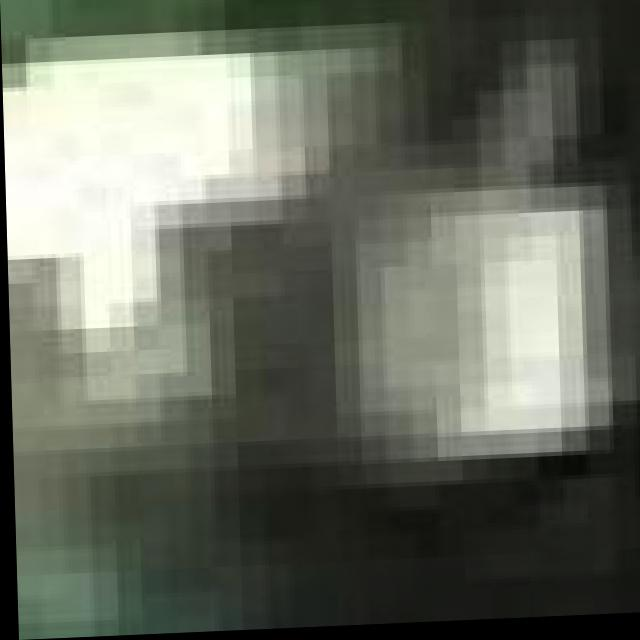transistor: (212, 0, 640, 633)
